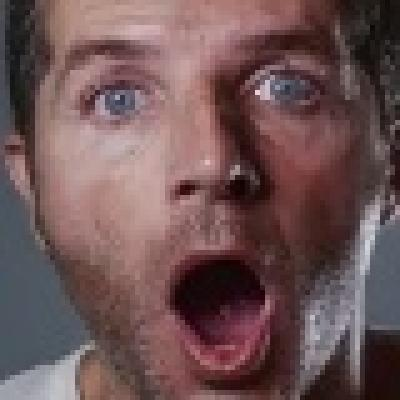surprise: (44, 0, 379, 400)
